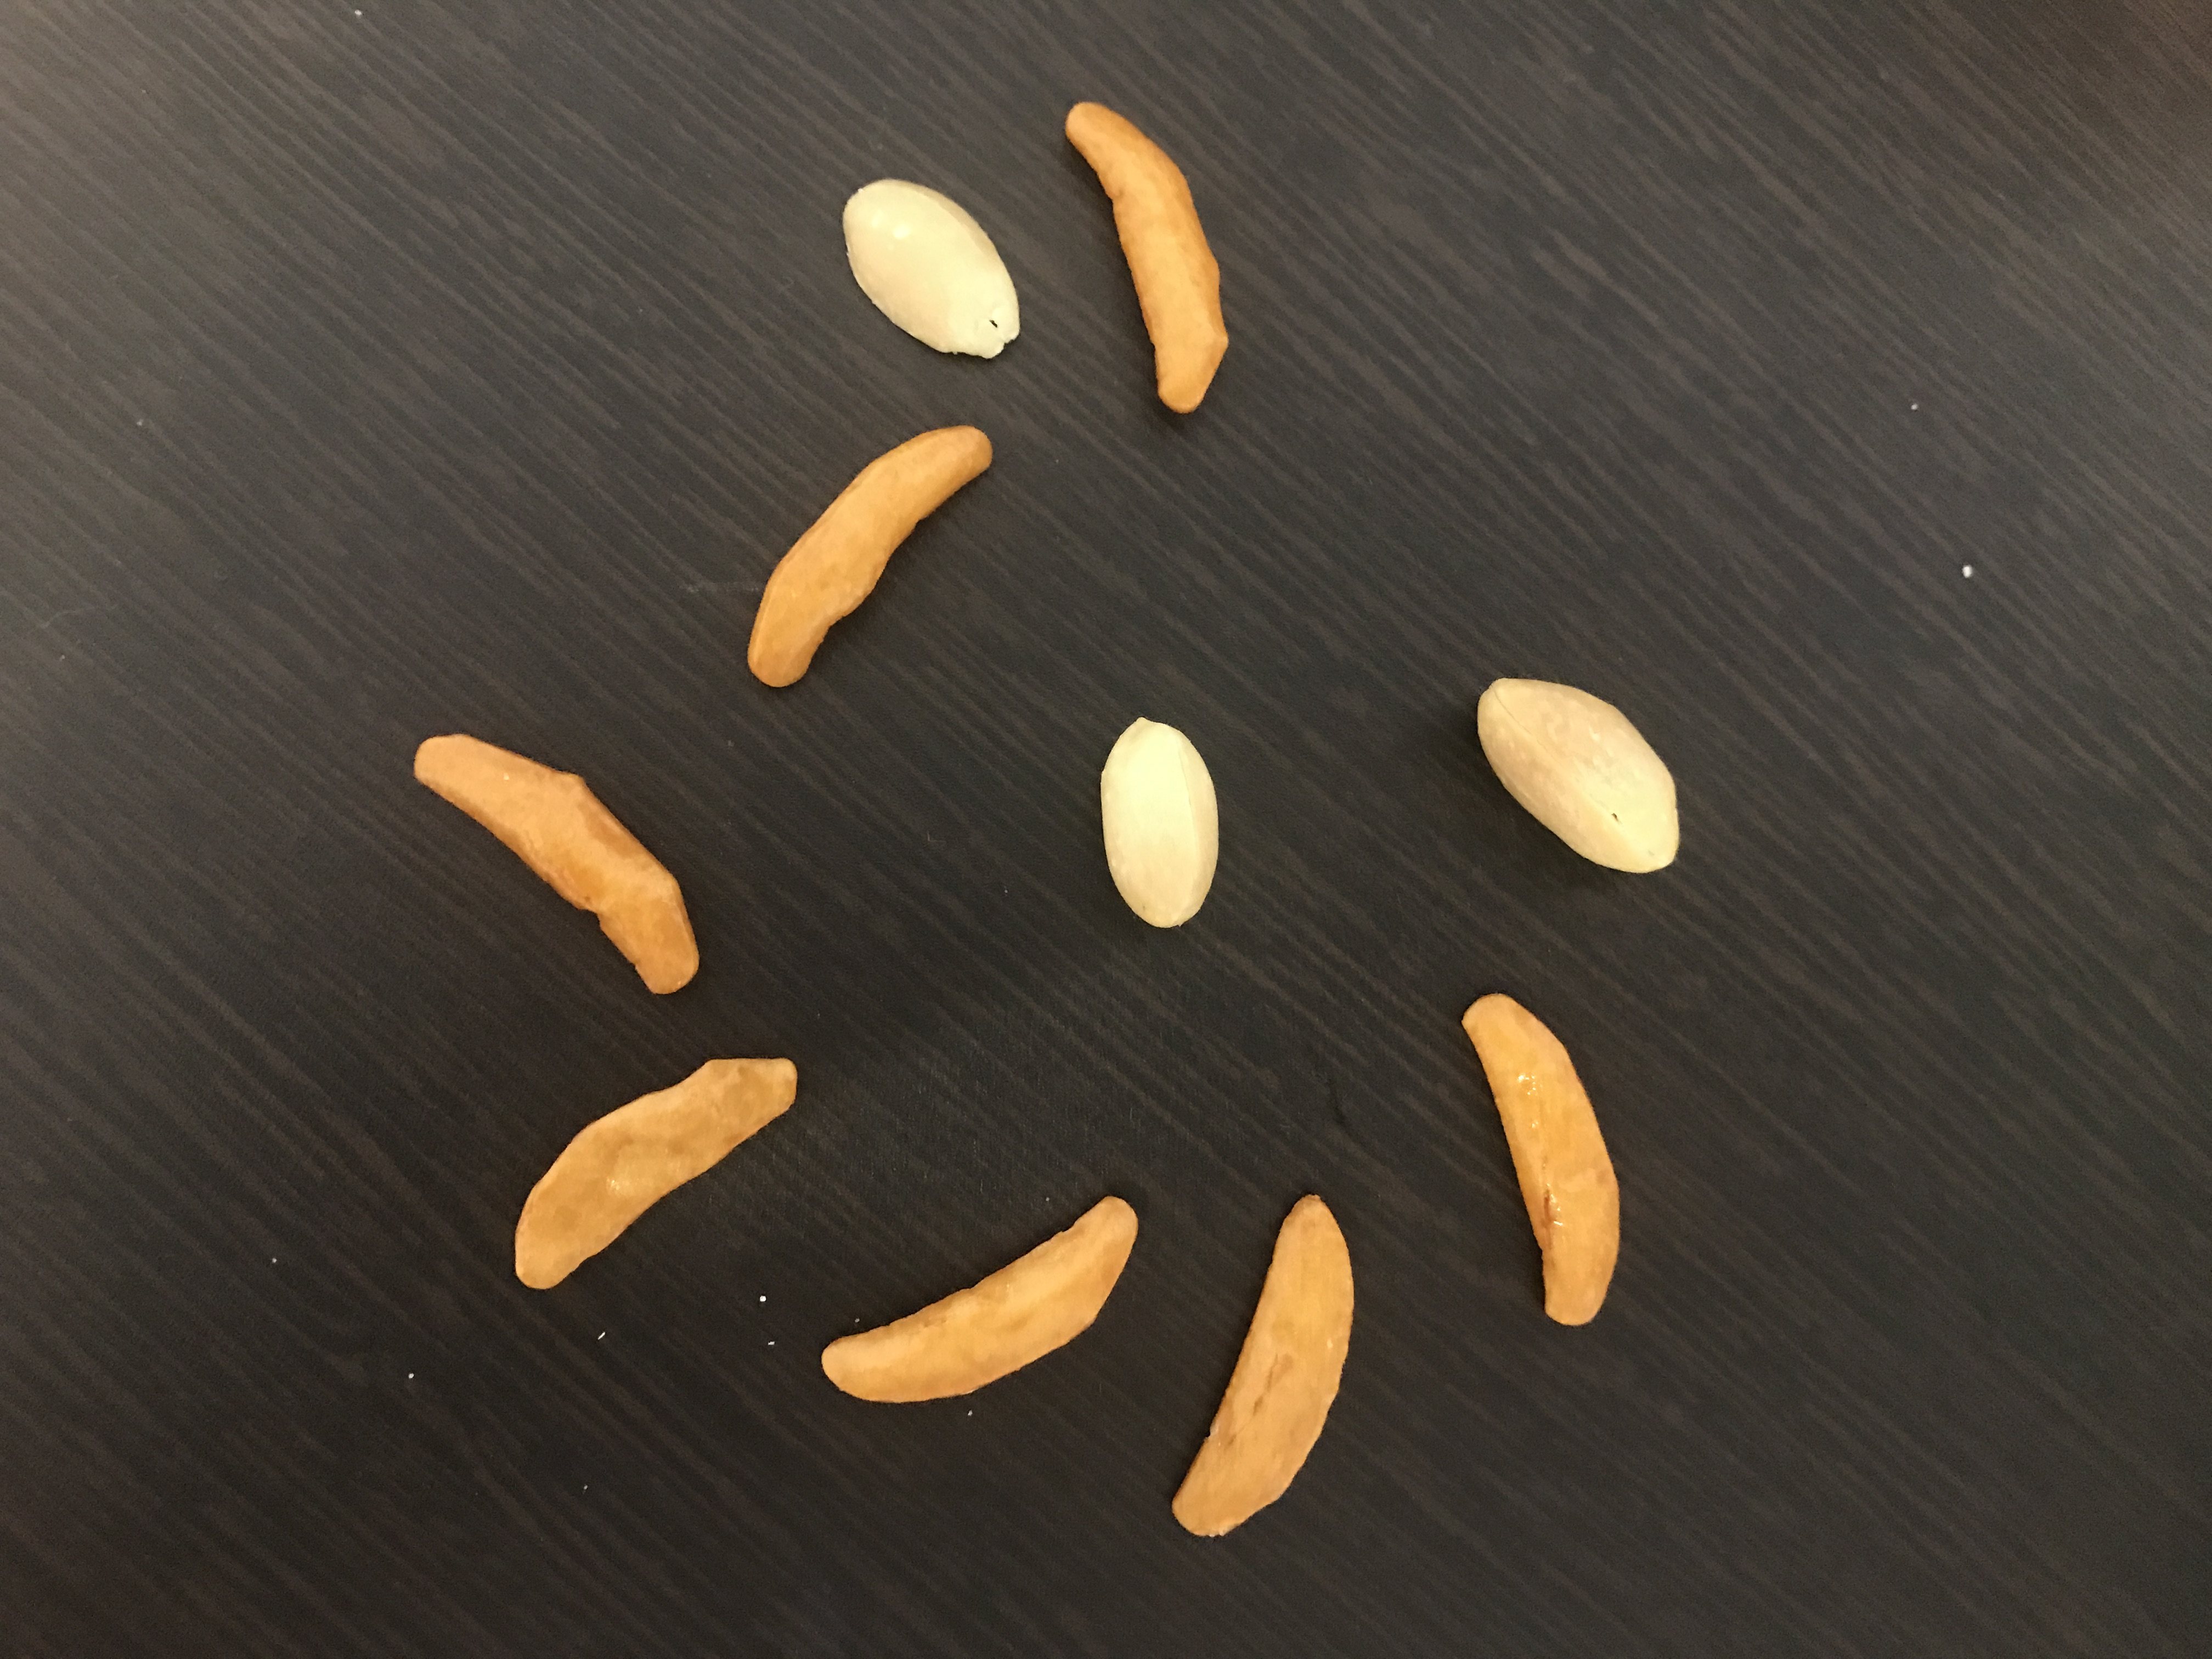peanut: (1474, 671, 1684, 884), (843, 173, 1031, 361), (1096, 709, 1230, 932)
